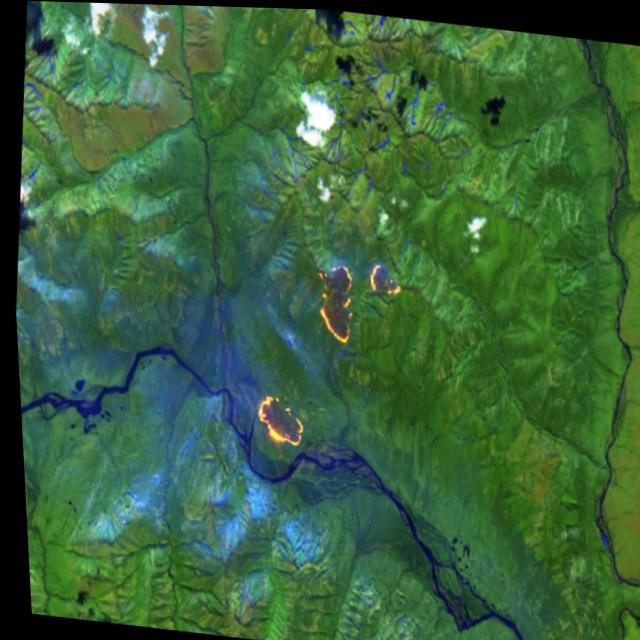fire: (309, 251, 405, 351)
